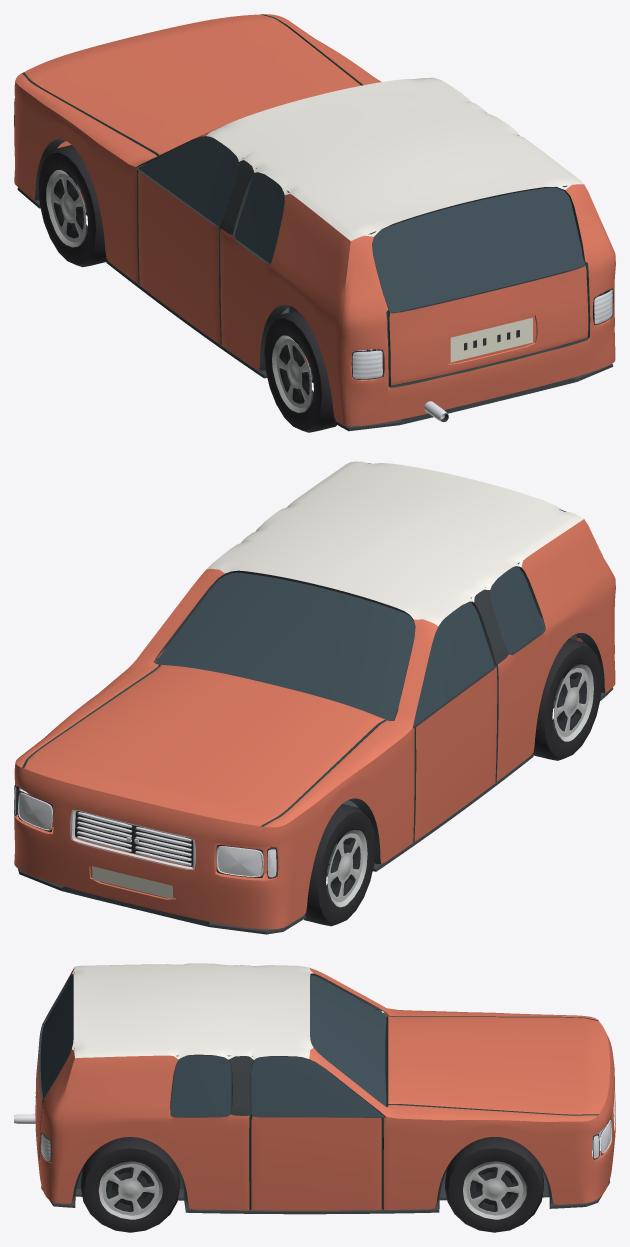
File: forge_closed_hatch_lod1.fbx
3 renders of one model, top to bottom at view 1: azimuth 30°, elevation 25°; view 2: azimuth 150°, elevation 25°; view 3: azimuth 270°, elevation 25°, orthographic. The views are drawn at different scales.
Parts seen in each view (by area): view 1: Body, Wheel_RL_Mesh, Wheel_FL_Mesh; view 2: Body, Wheel_FL_Mesh, Wheel_RL_Mesh; view 3: Body, Wheel_RR_Mesh, Wheel_FR_Mesh.
Boxes of the visible parts, x1=… form: Body: x1=14, y1=14, x2=615, y2=431; Wheel_RL_Mesh: x1=264, y1=310, x2=336, y2=432; Wheel_FL_Mesh: x1=38, y1=145, x2=107, y2=267; Body: x1=14, y1=461, x2=615, y2=934; Wheel_FL_Mesh: x1=304, y1=804, x2=375, y2=926; Wheel_RL_Mesh: x1=532, y1=638, x2=601, y2=760; Body: x1=14, y1=963, x2=615, y2=1214; Wheel_RR_Mesh: x1=81, y1=1137, x2=179, y2=1232; Wheel_FR_Mesh: x1=445, y1=1137, x2=543, y2=1232.
Size of the model in its own units: 154 by 117 by 354.
